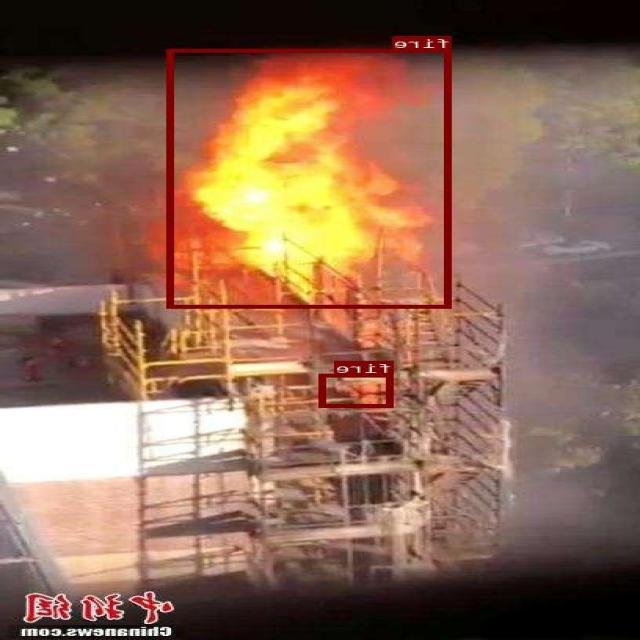fire: (169, 48, 453, 308), (321, 373, 394, 407)
